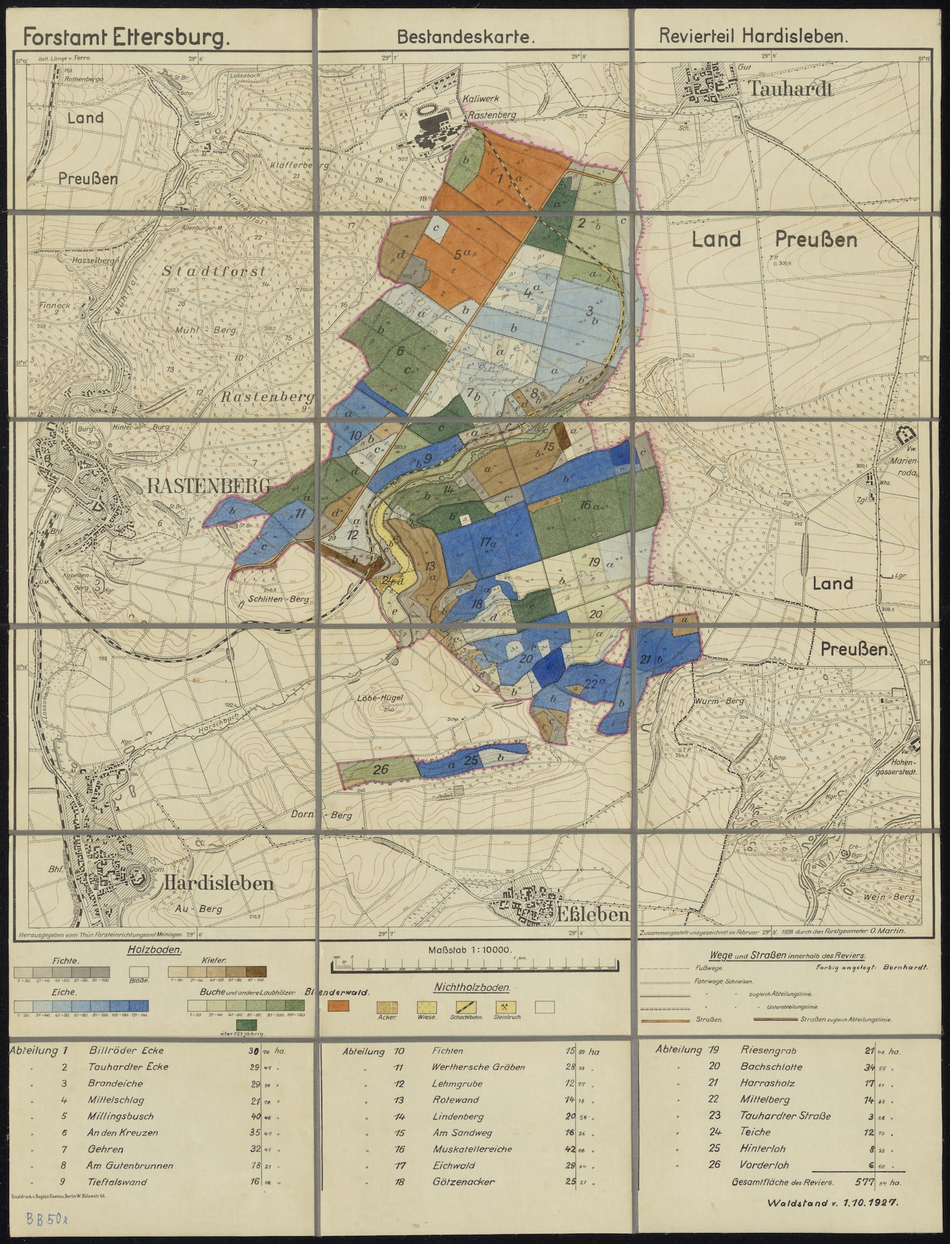landtype: (384, 441, 506, 506), (388, 519, 448, 618), (413, 234, 494, 305), (367, 435, 464, 494), (469, 126, 536, 211), (521, 449, 616, 504), (470, 124, 572, 169), (379, 447, 467, 499), (519, 360, 606, 410), (537, 366, 616, 417), (440, 224, 507, 283), (468, 632, 542, 685), (416, 743, 528, 778), (440, 216, 521, 264), (389, 481, 481, 522), (478, 137, 530, 208), (491, 143, 566, 191), (321, 487, 376, 552), (441, 576, 517, 623), (535, 365, 607, 413), (494, 500, 542, 569), (507, 427, 562, 485), (636, 628, 702, 676), (415, 353, 464, 417), (253, 464, 315, 514), (470, 306, 547, 345), (554, 661, 623, 704), (381, 284, 448, 328), (457, 368, 517, 417), (358, 300, 423, 345), (548, 301, 619, 342), (553, 278, 621, 320), (543, 324, 614, 364), (468, 516, 513, 579), (375, 501, 414, 573), (341, 320, 396, 371), (496, 263, 560, 306), (237, 515, 292, 565), (437, 525, 482, 586), (461, 175, 533, 211), (417, 501, 495, 534), (586, 477, 626, 541), (461, 354, 534, 389), (378, 346, 432, 393), (498, 244, 563, 283), (470, 447, 520, 497), (342, 757, 420, 789), (559, 486, 598, 550), (413, 267, 471, 310), (534, 347, 587, 393), (445, 130, 484, 192), (377, 427, 431, 471), (486, 286, 550, 323), (503, 162, 551, 211), (529, 503, 571, 559), (363, 368, 416, 411), (397, 329, 449, 372), (568, 231, 623, 271), (349, 433, 398, 476), (608, 272, 630, 367), (559, 256, 618, 291), (204, 497, 270, 527), (356, 380, 408, 417), (385, 216, 433, 256), (635, 466, 664, 531), (397, 571, 432, 624), (323, 484, 364, 525), (567, 595, 627, 623), (603, 292, 625, 365), (508, 561, 549, 600), (273, 498, 314, 537), (410, 374, 447, 417), (598, 533, 631, 581), (511, 589, 557, 623), (322, 458, 362, 497), (543, 551, 580, 593), (432, 182, 485, 211), (407, 422, 475, 444), (384, 520, 414, 569), (321, 544, 370, 574), (546, 391, 600, 418), (341, 388, 391, 417), (570, 628, 611, 663), (524, 221, 567, 254), (570, 216, 619, 244), (460, 653, 498, 689), (530, 706, 566, 744), (577, 175, 616, 210), (532, 648, 566, 688), (405, 370, 436, 413), (379, 239, 410, 281), (505, 422, 558, 446), (581, 578, 631, 603), (371, 538, 402, 578), (487, 216, 536, 241), (542, 177, 578, 211), (568, 240, 610, 268), (321, 542, 370, 566), (521, 628, 570, 652), (635, 526, 657, 577), (531, 684, 571, 712), (333, 455, 370, 485), (571, 543, 604, 576), (608, 667, 631, 714), (321, 552, 364, 577), (596, 628, 628, 661), (398, 255, 430, 287), (328, 423, 371, 446), (430, 589, 459, 623), (424, 318, 463, 343), (430, 394, 472, 417), (568, 422, 595, 457), (461, 468, 490, 500), (382, 588, 408, 623), (458, 423, 501, 444), (367, 497, 382, 557), (564, 241, 601, 265), (478, 749, 527, 767), (499, 674, 532, 700), (616, 472, 630, 532), (462, 602, 502, 623), (483, 487, 525, 507), (552, 587, 584, 613), (635, 432, 656, 470), (347, 432, 383, 454), (573, 278, 619, 295), (449, 299, 480, 324), (598, 711, 630, 735), (540, 216, 573, 239), (617, 216, 630, 273), (495, 572, 521, 600), (424, 216, 450, 244), (467, 333, 492, 362), (451, 127, 476, 156), (231, 563, 275, 579), (504, 338, 524, 373), (370, 573, 402, 594), (439, 585, 463, 612), (527, 495, 562, 513), (636, 669, 653, 706), (390, 571, 417, 594), (533, 711, 553, 742), (614, 173, 630, 211), (460, 629, 503, 643), (448, 568, 478, 588), (539, 219, 567, 240), (439, 311, 467, 332), (518, 343, 535, 377), (470, 327, 502, 345), (321, 483, 340, 513), (331, 433, 353, 458), (512, 389, 534, 414), (601, 266, 622, 292), (441, 629, 467, 650), (372, 423, 404, 440), (465, 431, 501, 446), (610, 439, 630, 466), (491, 335, 510, 363), (574, 199, 616, 211), (584, 166, 619, 180), (495, 600, 516, 623), (294, 517, 315, 540), (530, 611, 570, 623), (635, 275, 644, 328), (298, 483, 315, 511), (554, 422, 571, 450), (366, 556, 385, 580), (507, 394, 526, 417), (477, 666, 500, 685), (328, 403, 359, 417), (503, 306, 536, 319), (484, 591, 509, 608), (578, 571, 606, 586), (560, 641, 574, 671), (536, 268, 559, 286), (371, 503, 381, 543), (548, 709, 568, 729), (442, 350, 461, 371), (321, 514, 338, 537), (527, 670, 542, 696), (379, 596, 392, 624), (500, 398, 519, 417), (409, 629, 430, 646), (550, 451, 567, 472), (567, 659, 602, 669), (393, 629, 412, 647), (563, 172, 582, 190), (506, 641, 524, 659), (483, 501, 508, 513), (563, 422, 576, 445), (635, 215, 642, 256), (469, 651, 483, 671), (457, 341, 477, 355), (611, 269, 623, 292), (566, 404, 587, 417), (339, 762, 358, 776), (537, 639, 551, 658), (612, 609, 631, 623), (528, 343, 542, 362), (257, 553, 280, 564), (673, 613, 698, 623), (457, 644, 476, 657), (672, 628, 699, 637), (370, 581, 385, 597), (639, 616, 673, 623), (486, 585, 502, 599), (393, 505, 410, 518), (624, 637, 631, 668), (321, 458, 330, 482), (475, 654, 489, 669), (502, 427, 521, 438), (466, 438, 485, 449), (360, 423, 383, 432), (408, 612, 425, 624), (564, 685, 584, 695), (380, 548, 389, 570), (527, 422, 545, 433), (429, 629, 444, 642), (614, 464, 630, 476), (564, 445, 576, 461), (298, 542, 315, 553), (460, 326, 471, 343), (390, 629, 400, 647), (498, 423, 520, 431), (406, 519, 425, 528), (389, 512, 408, 521), (568, 162, 585, 172), (281, 539, 294, 552), (442, 639, 456, 651), (388, 617, 411, 624), (455, 475, 467, 488), (462, 581, 477, 591), (502, 425, 519, 433), (460, 514, 471, 526), (455, 588, 470, 596), (478, 449, 491, 458), (635, 577, 648, 586), (434, 629, 448, 637), (384, 507, 392, 521), (531, 363, 538, 379), (304, 541, 315, 551), (490, 434, 503, 442), (415, 296, 425, 306), (426, 326, 437, 335), (494, 361, 508, 368), (502, 629, 518, 635), (396, 299, 405, 309), (636, 193, 641, 211), (627, 532, 631, 554), (635, 557, 639, 578), (451, 651, 461, 659), (635, 448, 640, 464), (404, 308, 413, 316), (423, 306, 432, 314), (386, 587, 396, 594), (385, 412, 399, 417), (508, 606, 514, 617), (447, 636, 455, 644), (366, 453, 375, 460), (415, 319, 424, 326), (527, 411, 537, 417), (592, 532, 602, 538), (635, 327, 641, 337), (635, 464, 642, 472), (530, 422, 541, 427), (496, 687, 502, 696), (546, 301, 552, 310), (537, 305, 543, 314), (446, 341, 455, 347), (234, 563, 243, 569), (519, 340, 528, 346), (373, 554, 379, 562), (541, 392, 547, 400), (520, 422, 529, 427), (488, 662, 497, 667), (447, 629, 458, 633), (514, 361, 518, 372), (523, 425, 529, 432), (479, 363, 486, 369), (409, 305, 416, 311), (432, 313, 438, 320), (445, 345, 451, 352), (473, 423, 483, 427), (483, 422, 496, 425), (586, 447, 592, 453), (452, 620, 464, 623), (527, 423, 533, 429), (412, 290, 418, 296), (496, 411, 502, 417), (626, 327, 630, 336), (635, 336, 639, 345), (454, 346, 461, 351), (440, 629, 451, 632), (517, 629, 527, 632), (485, 437, 490, 443), (514, 345, 519, 351), (484, 302, 490, 307), (473, 414, 482, 417), (542, 317, 547, 322), (521, 414, 529, 417), (562, 413, 568, 417), (531, 414, 539, 417), (407, 423, 413, 426), (411, 757, 414, 762), (628, 438, 630, 445), (536, 354, 540, 357), (434, 209, 439, 211), (534, 216, 538, 218), (401, 423, 405, 425), (312, 540, 315, 542), (258, 535, 261, 537), (559, 416, 563, 417), (535, 362, 538, 363), (321, 514, 321, 515)
legend: (377, 1002, 397, 1014), (456, 1002, 476, 1013), (536, 1001, 554, 1013), (328, 1001, 349, 1011), (188, 1000, 207, 1011), (207, 1000, 226, 1011), (14, 967, 33, 978), (33, 967, 52, 978), (33, 1001, 52, 1012), (110, 1001, 129, 1012), (227, 1000, 246, 1011), (247, 1000, 266, 1011), (497, 1002, 516, 1013), (226, 967, 246, 977), (15, 1001, 33, 1012), (53, 1001, 71, 1012), (72, 1001, 90, 1012), (91, 1001, 109, 1012), (267, 1000, 285, 1011), (286, 1000, 304, 1011), (418, 1002, 436, 1013), (207, 967, 226, 977), (247, 967, 266, 977), (237, 1020, 256, 1030), (130, 967, 149, 977), (53, 967, 71, 977), (72, 967, 90, 977), (91, 967, 109, 977), (169, 967, 187, 977), (188, 967, 206, 977), (130, 1001, 148, 1011)
